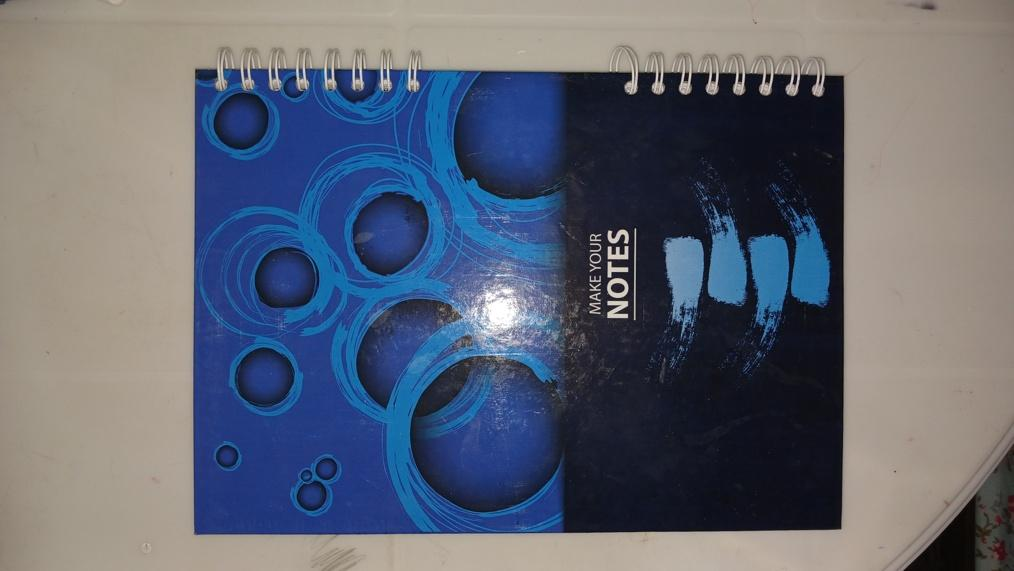notebook: (193, 57, 847, 535)
